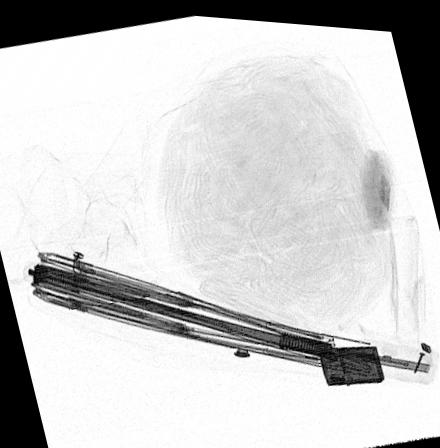Lighter: (319, 339, 384, 380)
